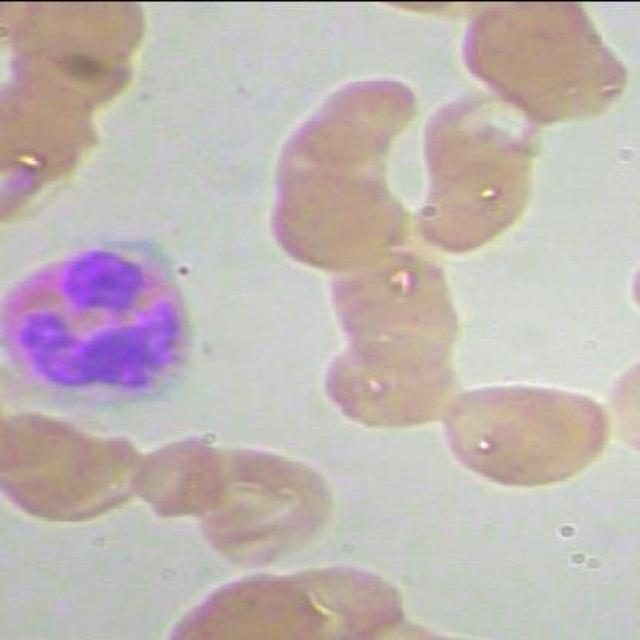RBC: (437, 369, 612, 502), (176, 437, 342, 572), (318, 324, 474, 434), (319, 287, 463, 378), (296, 75, 418, 167)
WBC: (0, 236, 188, 418)
